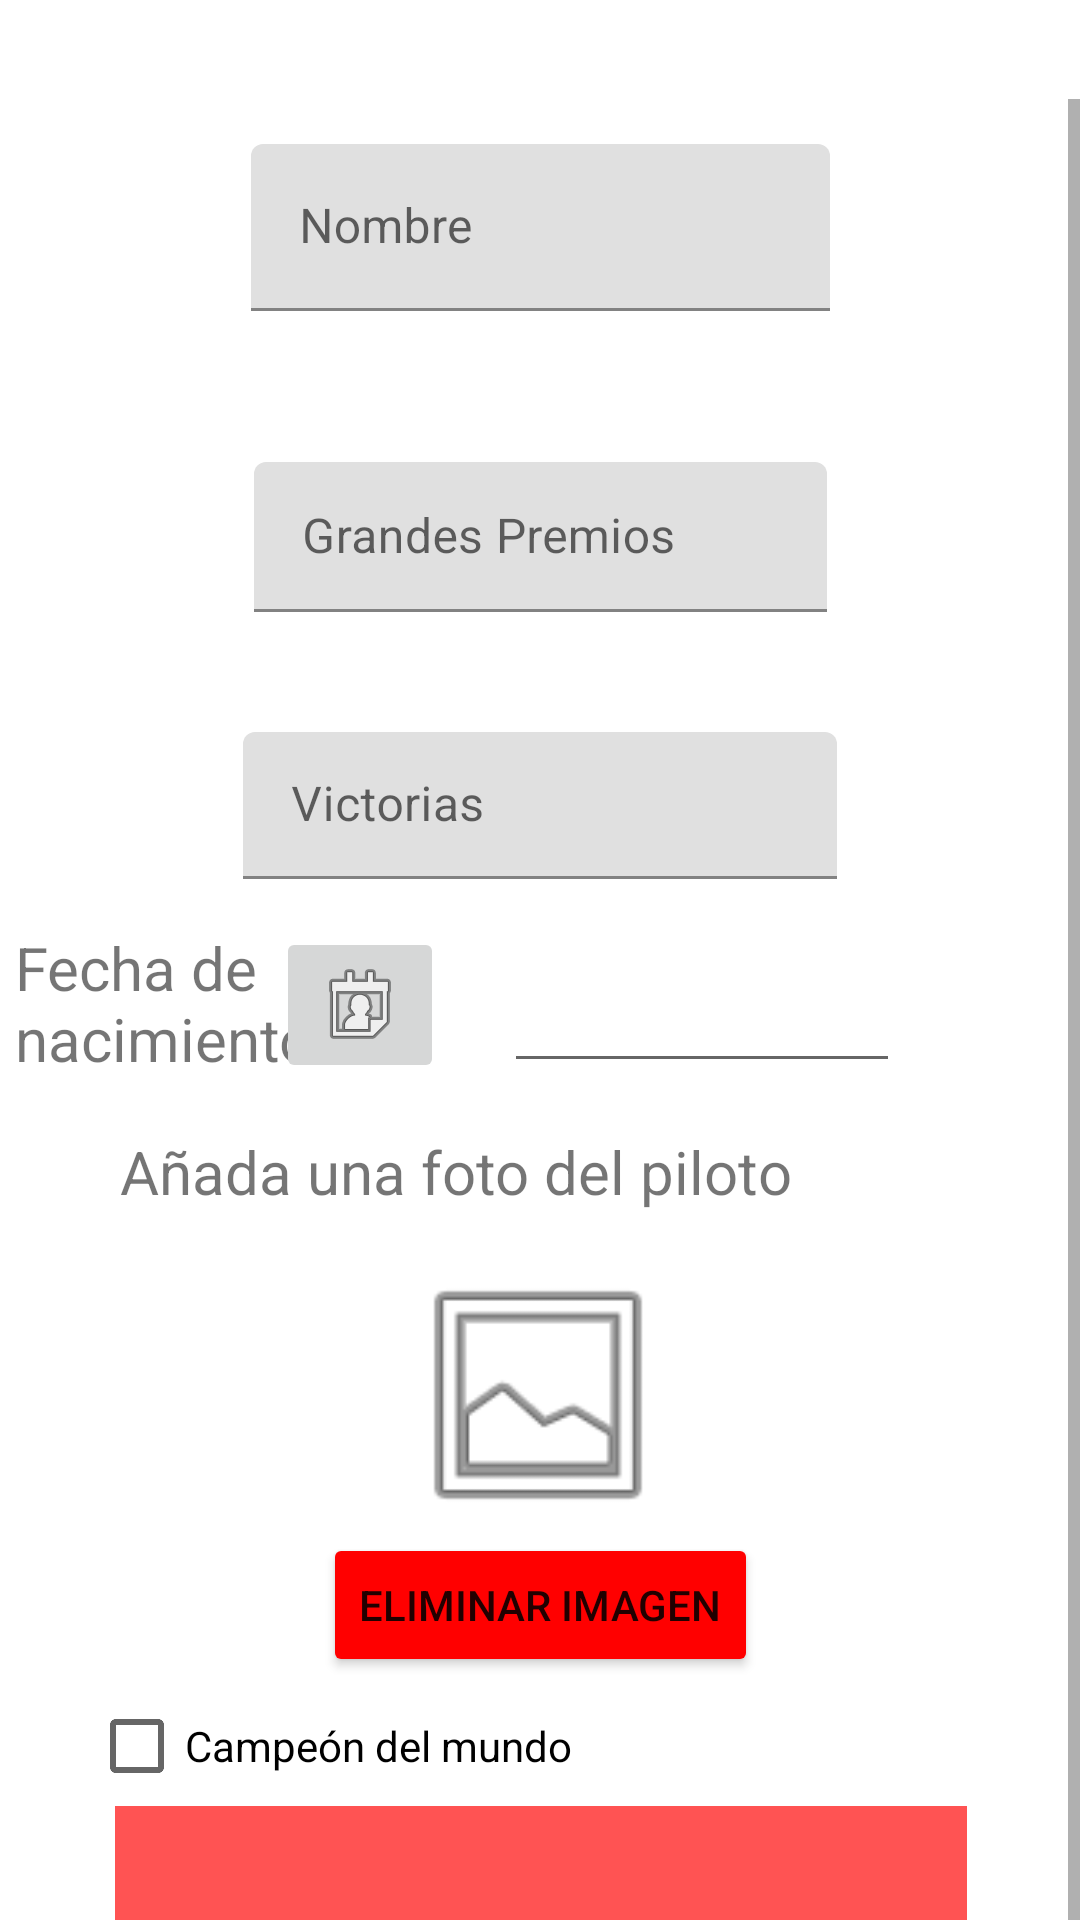

Screen size 1080 x 1920. Icon name, then its box in pixels as (x1, y1, x2, y2):
calendar: (281, 945, 432, 1065)
gallery: (434, 1291, 642, 1499)
